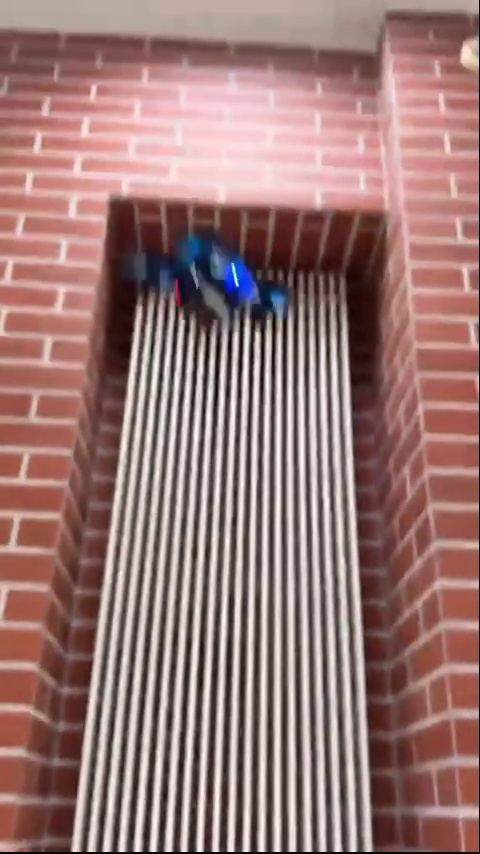drone: (125, 222, 304, 332)
